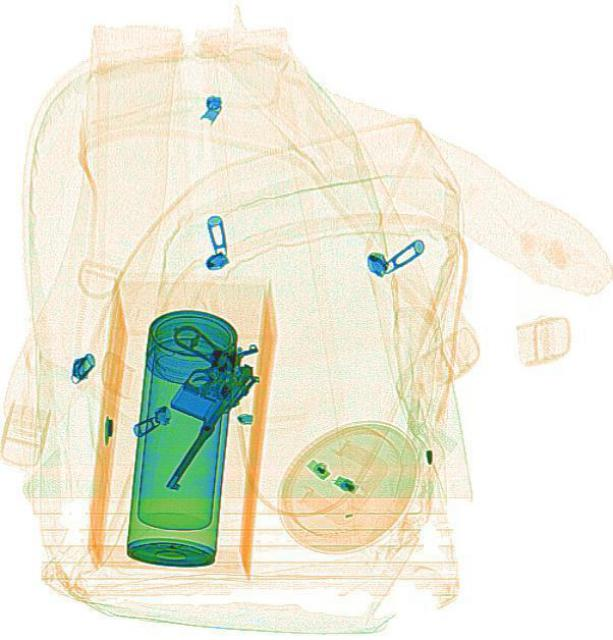Gun: (91, 301, 274, 493)
